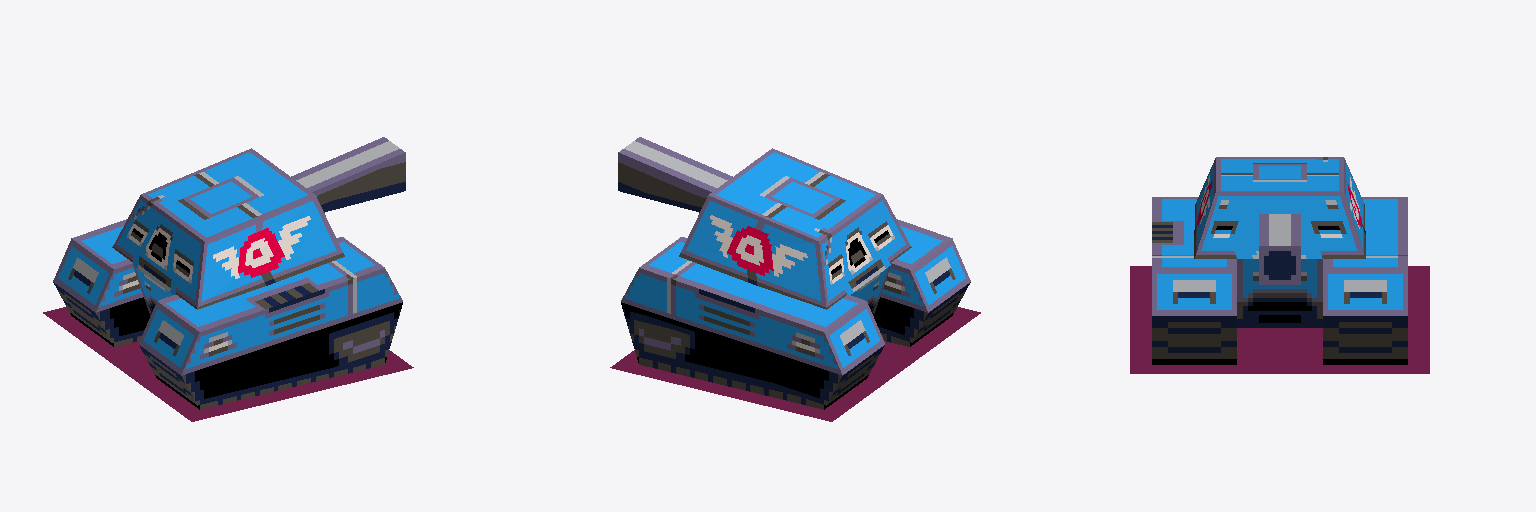
3 renders of one model, left to right at view 1: azimuth 30°, elevation 25°; view 2: azimuth 150°, elevation 25°; view 3: azimuth 270°, elevation 25°, orthographic.
Visible parts, largest first — view 1: chunky_tank; view 2: chunky_tank; view 3: chunky_tank.
Part boxes in pixels (left/top/right/bottom): chunky_tank: left=43, top=137, right=413, bottom=421; chunky_tank: left=610, top=137, right=980, bottom=421; chunky_tank: left=1130, top=157, right=1429, bottom=373.
Bounding box in the file's own units: 3.75 × 2 × 3.5.
Materials: 1 (1 with a texture image).